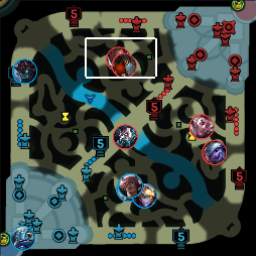ezreal: (131, 183, 157, 207)
fiddlesticks: (112, 54, 138, 79)
fizz: (11, 226, 35, 251)
lucian: (106, 47, 131, 72)
maokai: (11, 57, 36, 84)
rakan: (189, 113, 214, 138)
sett: (117, 173, 143, 198)
tristana: (201, 140, 227, 164)
zilean: (112, 124, 138, 150)
